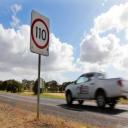speed_limit_110: (32, 18, 48, 48)
